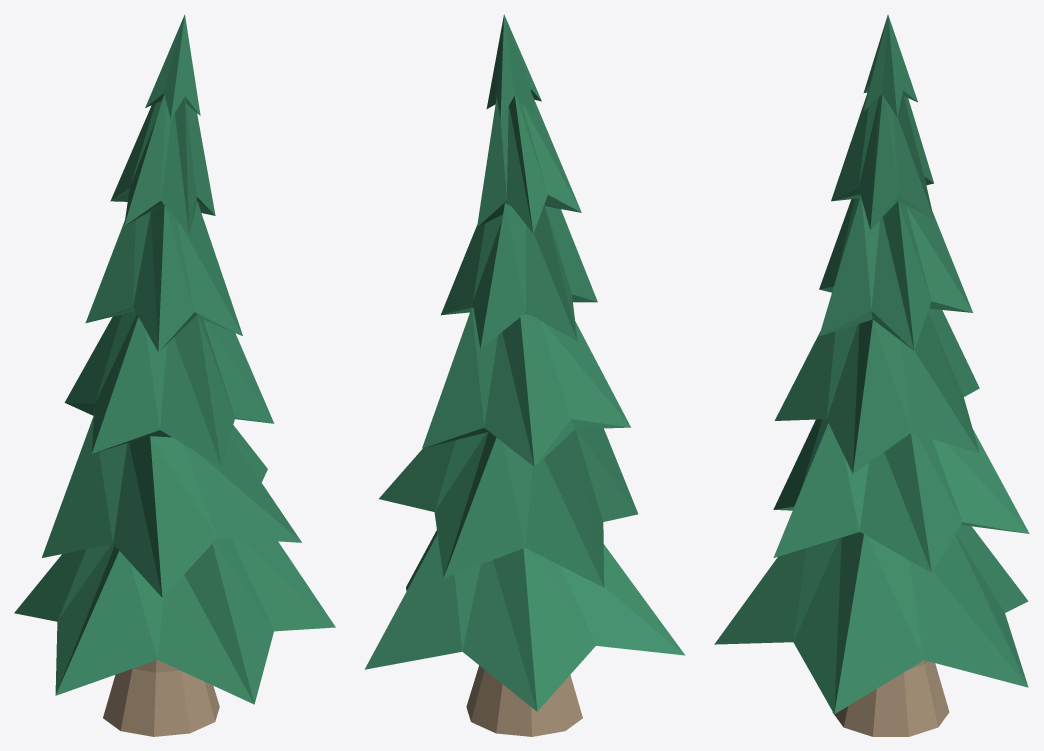
Rendered from christmas-tree.glb.
The picture shows the model from 3 angles, left to right: view 1: azimuth 30°, elevation 25°; view 2: azimuth 150°, elevation 25°; view 3: azimuth 270°, elevation 25°; orthographic projection. The views are drawn at different scales.
Parts seen in each view (by area): view 1: Mesh_Mesh_head_geo.001_lambert2SG.001; view 2: Mesh_Mesh_head_geo.001_lambert2SG.001; view 3: Mesh_Mesh_head_geo.001_lambert2SG.001.
Boxes of the visible parts, x1,y1,x2,y2 form: Mesh_Mesh_head_geo.001_lambert2SG.001: [14, 14, 335, 736]; Mesh_Mesh_head_geo.001_lambert2SG.001: [364, 14, 685, 736]; Mesh_Mesh_head_geo.001_lambert2SG.001: [714, 14, 1029, 736].
Size of the model in its own units: 5.65 by 13.36 by 5.39.
